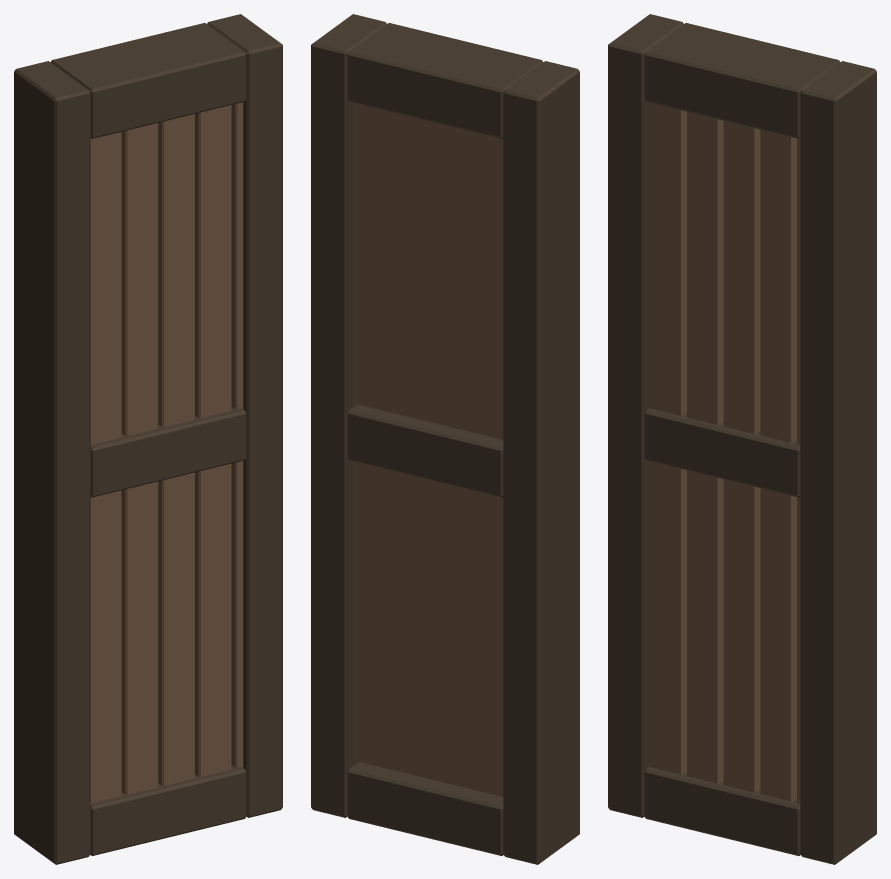
File: SM_Henhouse_Wall_125_A.fbx
3 views of the same model, side by side, from view 1: azimuth 30°, elevation 25°; view 2: azimuth 150°, elevation 25°; view 3: azimuth 330°, elevation 25° (orthographic).
Visible parts, largest first — view 1: SM_Henhouse_Wall_125_A; view 2: SM_Henhouse_Wall_125_A; view 3: SM_Henhouse_Wall_125_A.
Boxes of the visible parts, x1=… form: SM_Henhouse_Wall_125_A: x1=14, y1=14, x2=282, y2=864; SM_Henhouse_Wall_125_A: x1=311, y1=14, x2=579, y2=864; SM_Henhouse_Wall_125_A: x1=608, y1=14, x2=876, y2=864.
Size of what is drawn, in the model's own units: 40 by 125 by 400.
